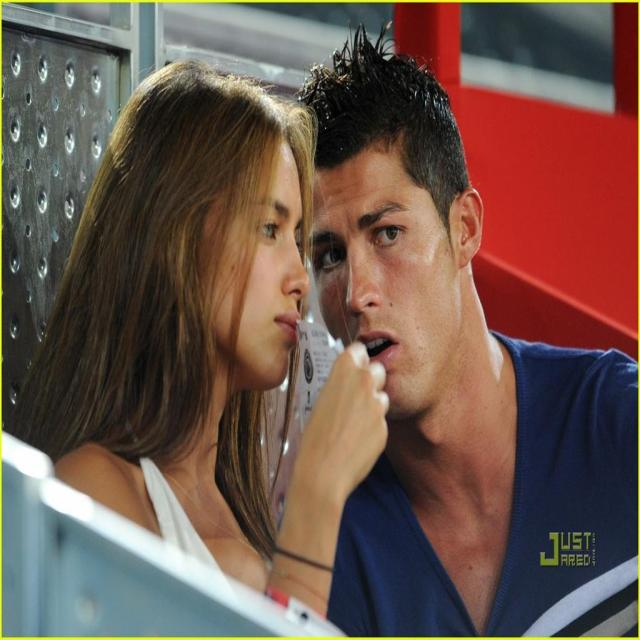Face: (294, 152, 482, 437), (226, 138, 318, 396)
